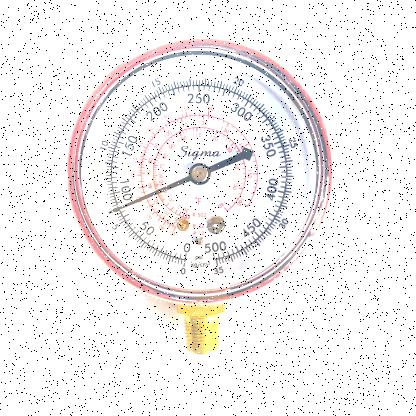needle: (107, 174, 191, 215)
